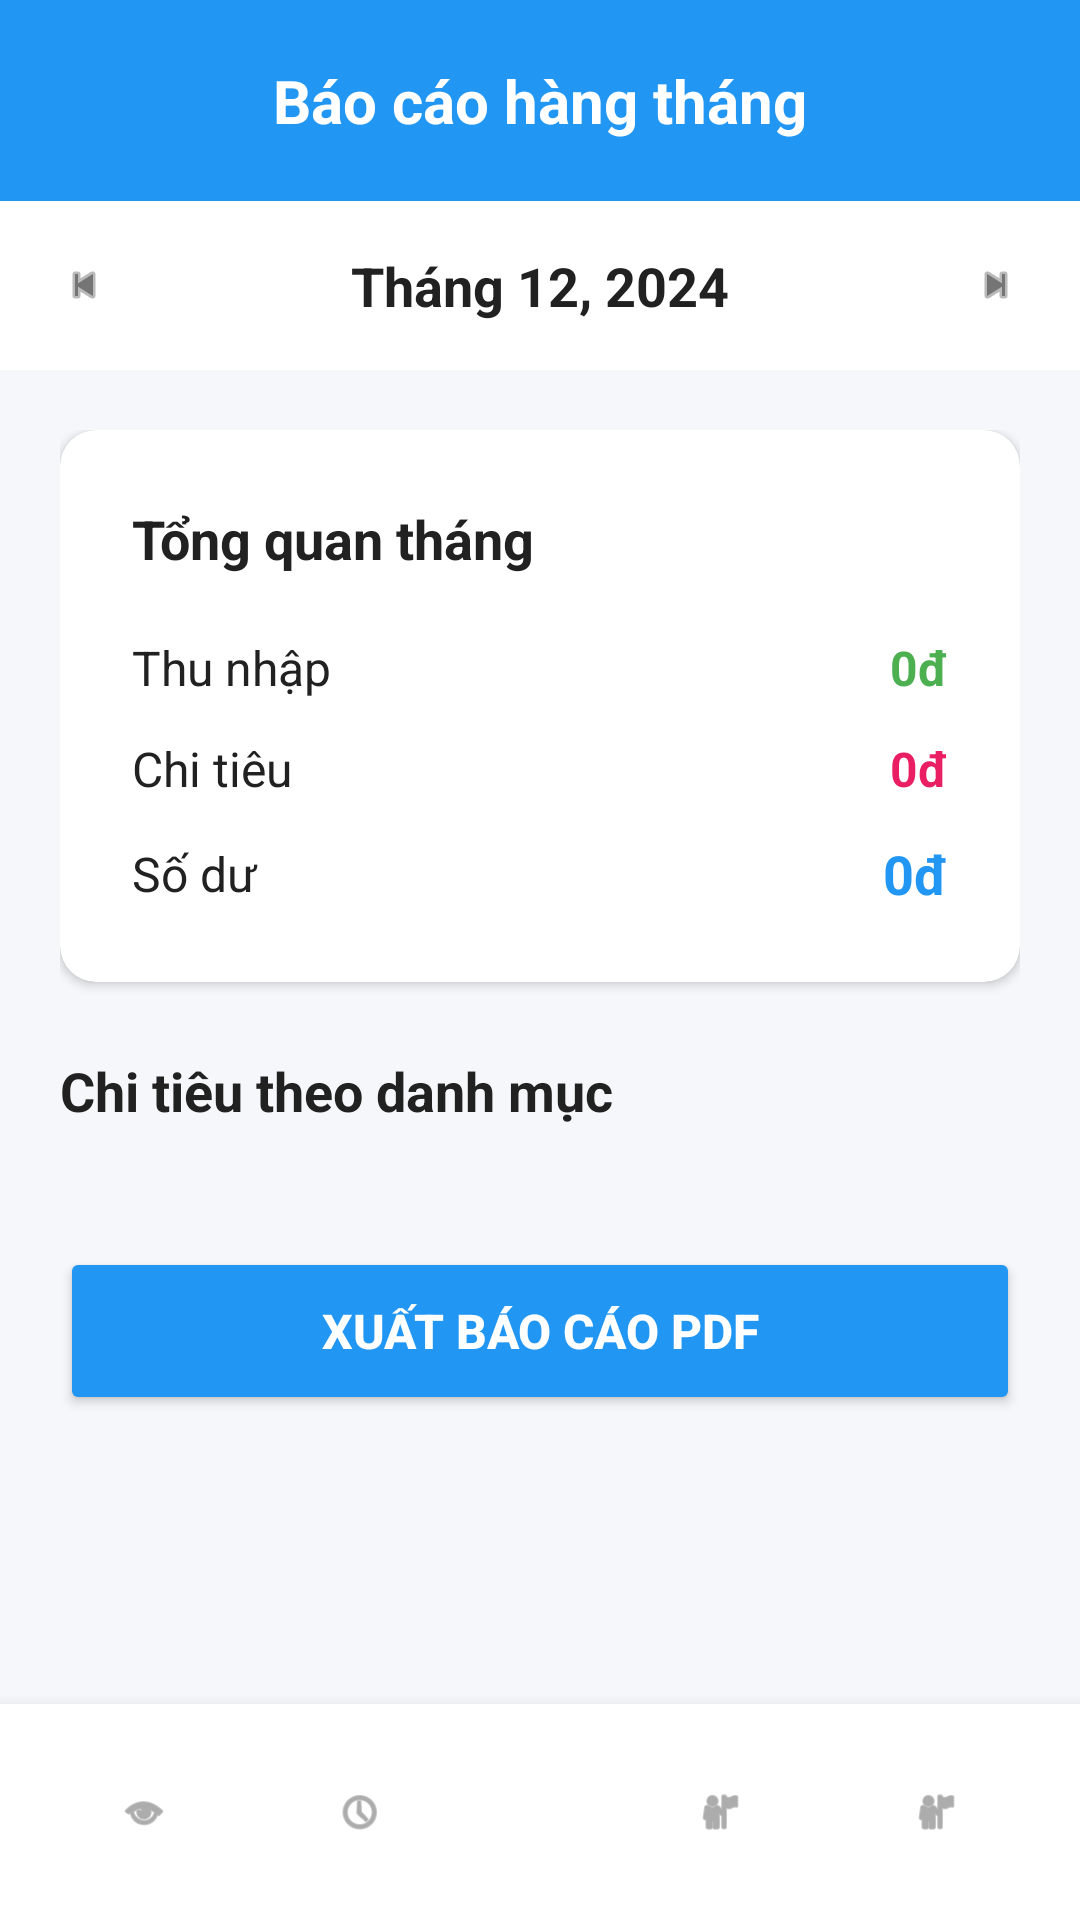

Named icons in this screenshot (1080px x 1920px) and their centers, (x=x, y=y):
myplaces: (x=720, y=1812), (x=936, y=1812)
next: (x=996, y=285)
previous: (x=84, y=285)
recent history: (x=359, y=1812)
view: (x=144, y=1813)
